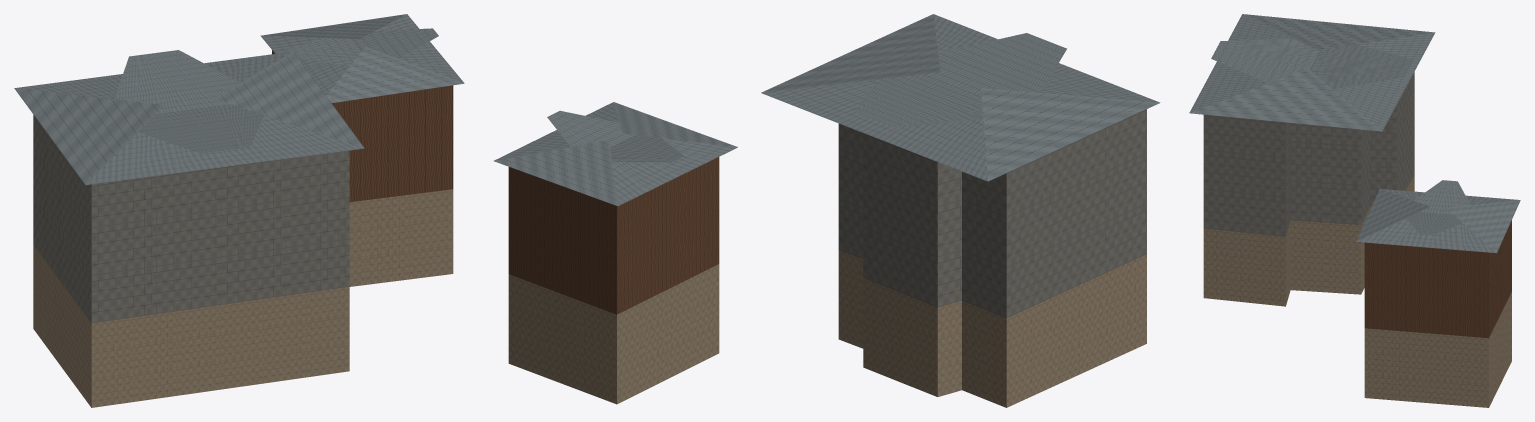
Rendered from bld_c9_8_503.gltf.
3 renders of one model, left to right at view 1: azimuth 30°, elevation 25°; view 2: azimuth 150°, elevation 25°; view 3: azimuth 270°, elevation 25°, orthographic. The views are drawn at different scales.
Visible parts, largest first — view 1: bld_c9_8_503; view 2: bld_c9_8_503; view 3: bld_c9_8_503.
Part boxes in pixels (x1=…): bld_c9_8_503: x1=14, y1=14, x2=464, y2=407; bld_c9_8_503: x1=494, y1=14, x2=1160, y2=407; bld_c9_8_503: x1=1189, y1=14, x2=1520, y2=407.
Size of the model in its own units: 30.01 by 16.1 by 21.97.
4 materials, 4 textured.
